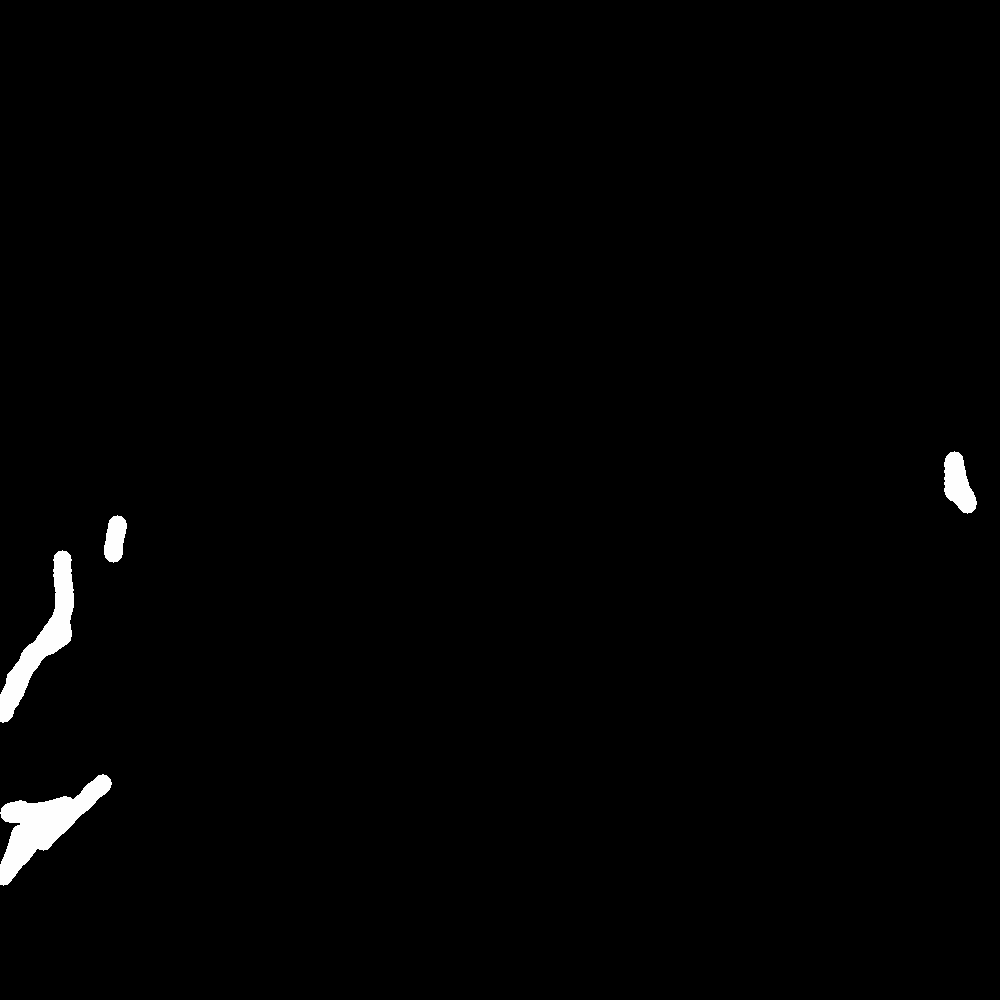illegal: (1, 766, 122, 878), (908, 401, 966, 475)
